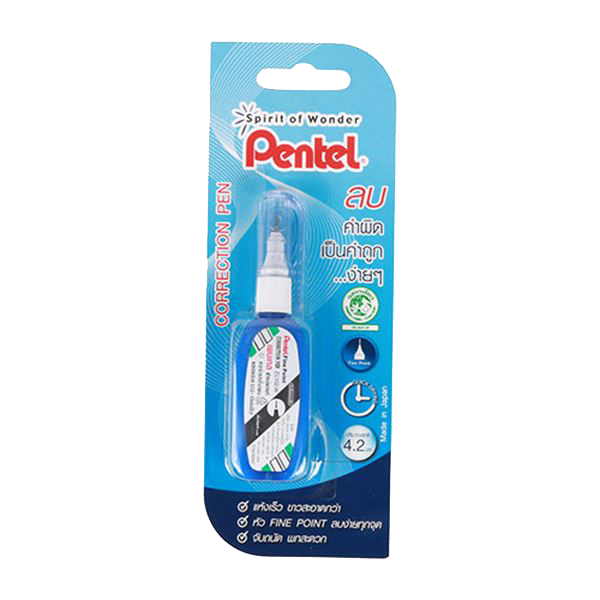Correction_fluid: (224, 189, 317, 482)
